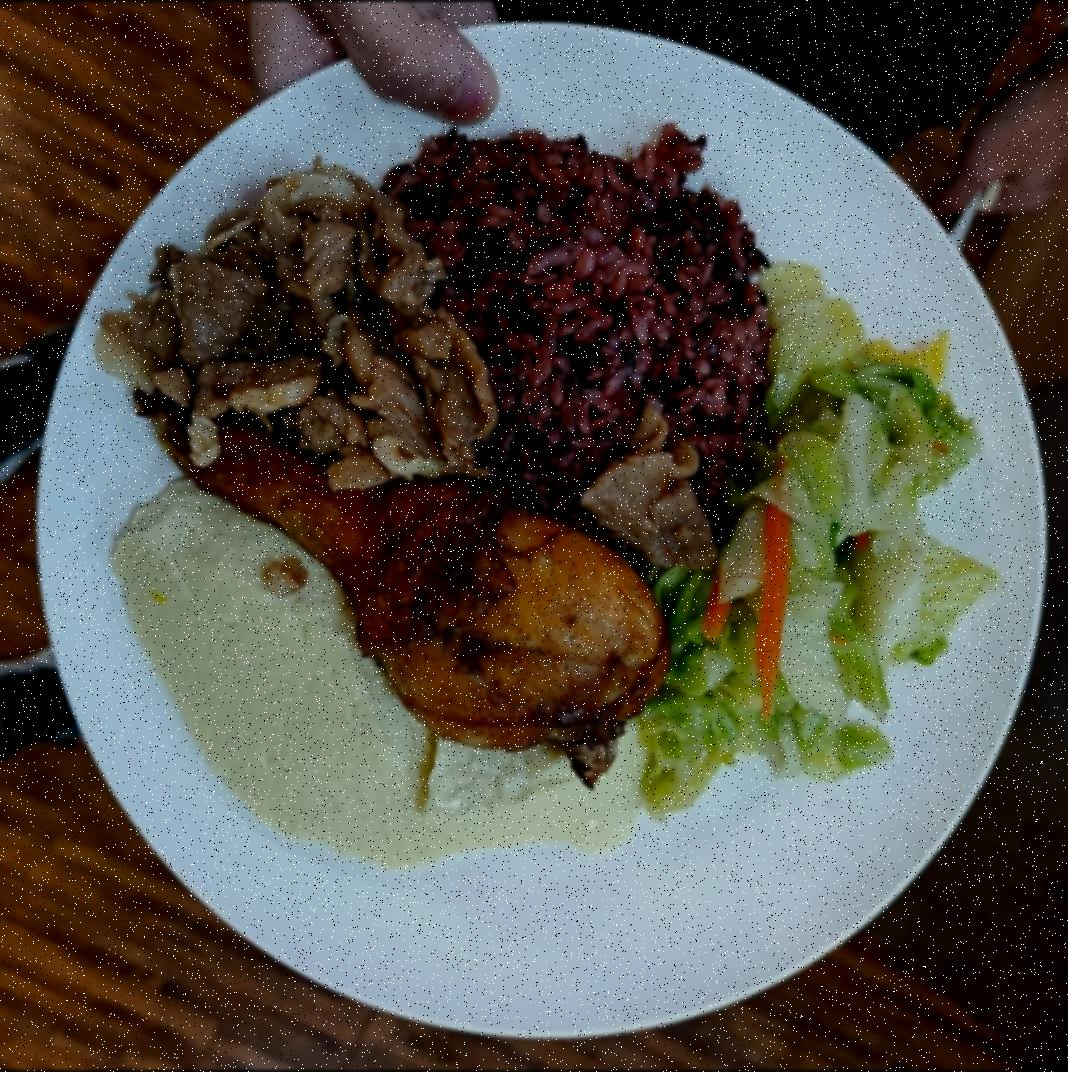garlic white meat: (100, 162, 494, 490)
plate: (47, 9, 1042, 1050)
purple rice: (397, 132, 767, 508)
side dish: (113, 484, 652, 872), (654, 267, 987, 808)
small grilled chicken leg: (150, 382, 670, 772)
